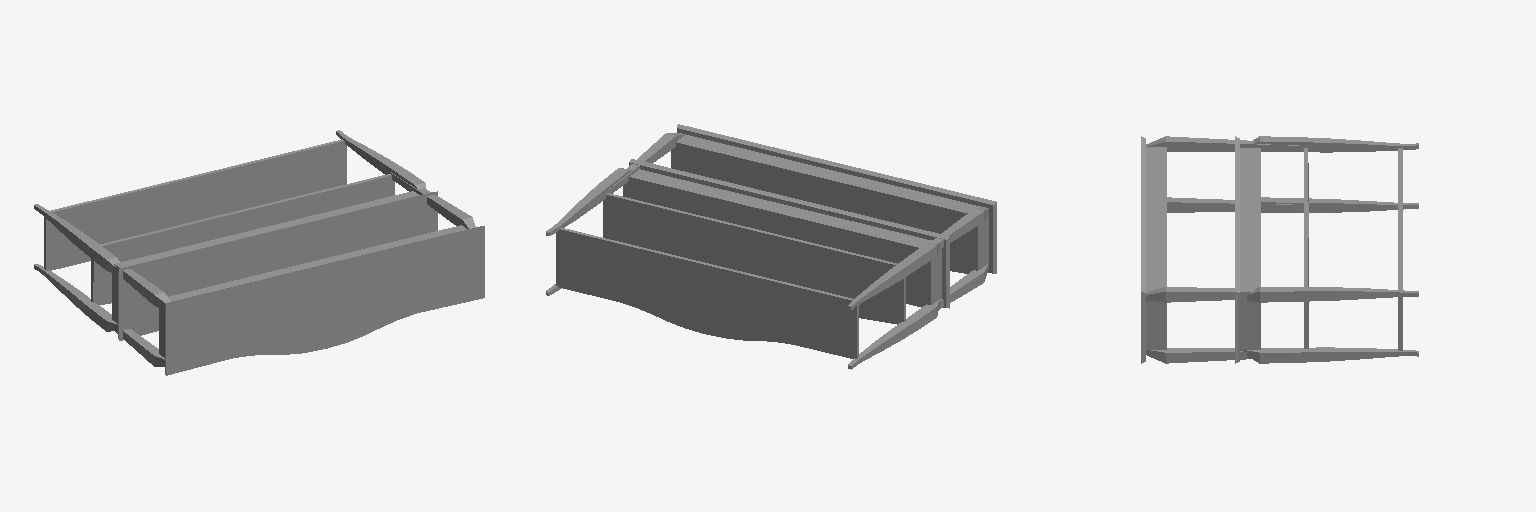
Rendered from bnk_prop_lounge_table_long.obj.
The picture shows the model from 3 angles: view 1: azimuth 30°, elevation 25°; view 2: azimuth 150°, elevation 25°; view 3: azimuth 270°, elevation 25°; orthographic projection.
Parts seen in each view (by area): view 1: g_bnk_prop_lounge_table_long_lod1, g_bnk_prop_lounge_table_long; view 2: g_bnk_prop_lounge_table_long, g_bnk_prop_lounge_table_long_lod1; view 3: g_bnk_prop_lounge_table_long, g_bnk_prop_lounge_table_long_lod1.
Part boxes in pixels (x1,y1,x2,y2): g_bnk_prop_lounge_table_long_lod1: (91,172,484,375); g_bnk_prop_lounge_table_long: (34,130,437,340); g_bnk_prop_lounge_table_long: (546,159,949,369); g_bnk_prop_lounge_table_long_lod1: (603,124,996,324); g_bnk_prop_lounge_table_long: (1235,136,1418,363); g_bnk_prop_lounge_table_long_lod1: (1141,136,1308,363).
Size of the model in its own units: 198 by 50.12 by 149.